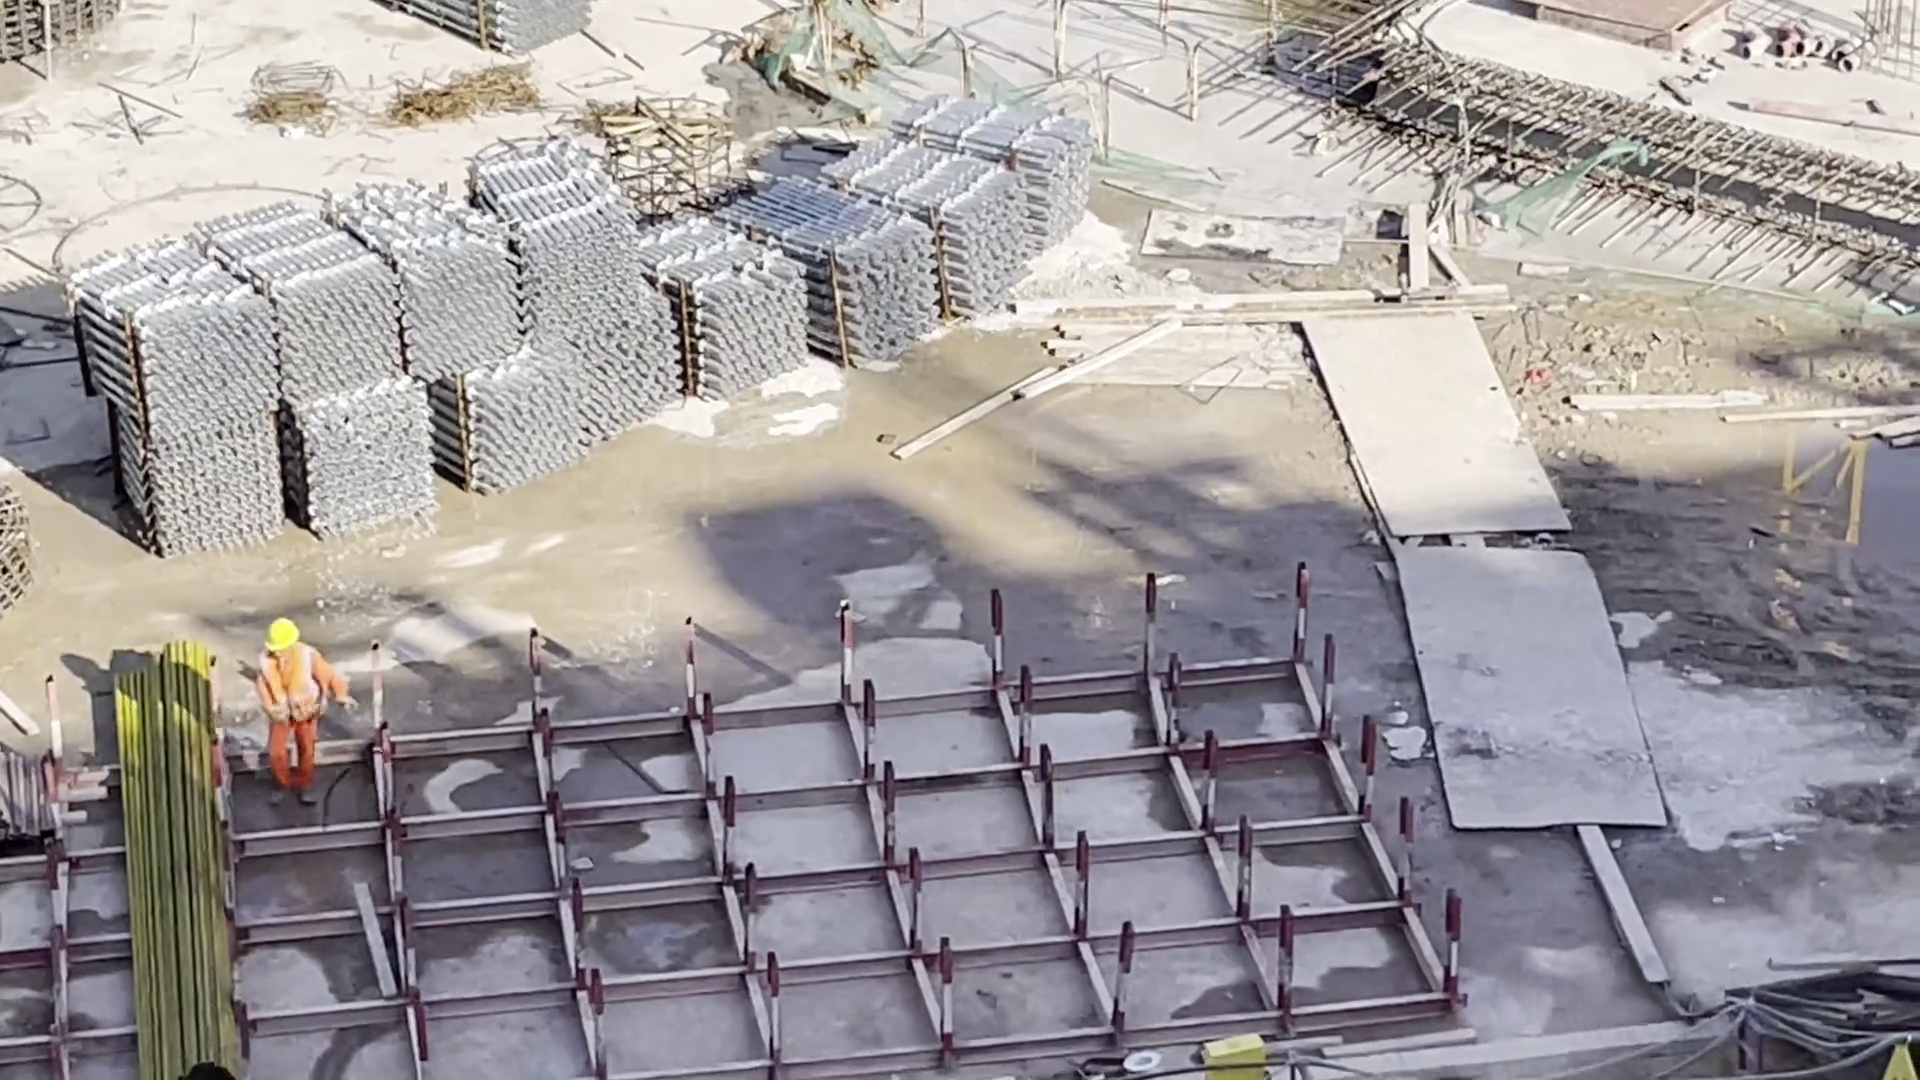helmet: (253, 613, 310, 671)
person: (238, 620, 350, 802)
scaffold: (56, 68, 1078, 559)
vest: (260, 658, 316, 708)
